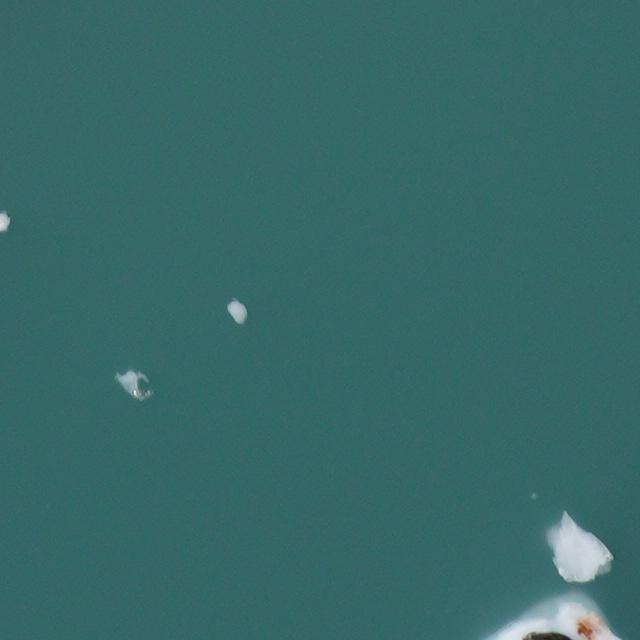seal: (524, 629, 575, 640)
